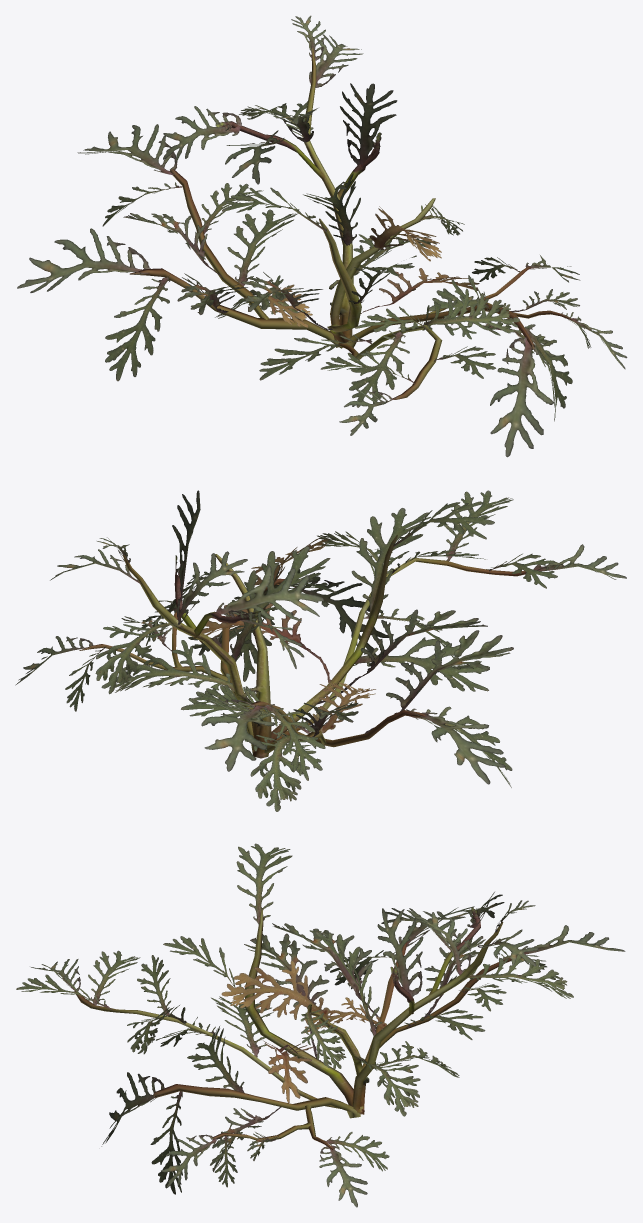
The model's file is flower_ursinia_03.glb.
The picture shows the model from 3 angles, top to bottom: view 1: azimuth 30°, elevation 25°; view 2: azimuth 150°, elevation 25°; view 3: azimuth 270°, elevation 25°; orthographic projection. The views are drawn at different scales.
Parts seen in each view (by area): view 1: flower_ursinia; view 2: flower_ursinia; view 3: flower_ursinia.
Part boxes in pixels (<box>): flower_ursinia: <box>17,15,627,457</box>; flower_ursinia: <box>15,490,626,811</box>; flower_ursinia: <box>16,843,625,1207</box>.
Size of the model in its own units: 0.1379 by 0.0743 by 0.1573.
1 material, 1 textured.
